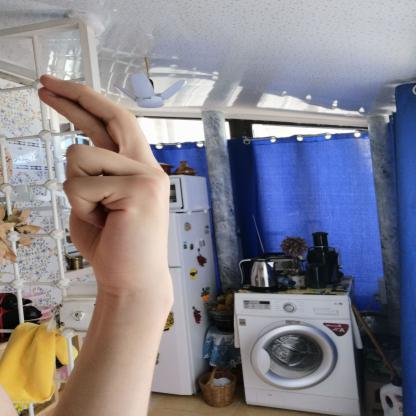ZAY: (27, 66, 179, 299)
